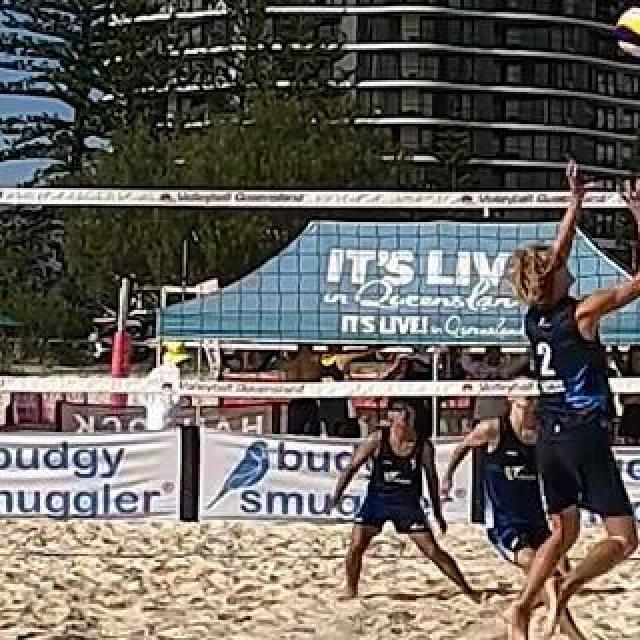volleyball: (616, 4, 640, 60)
